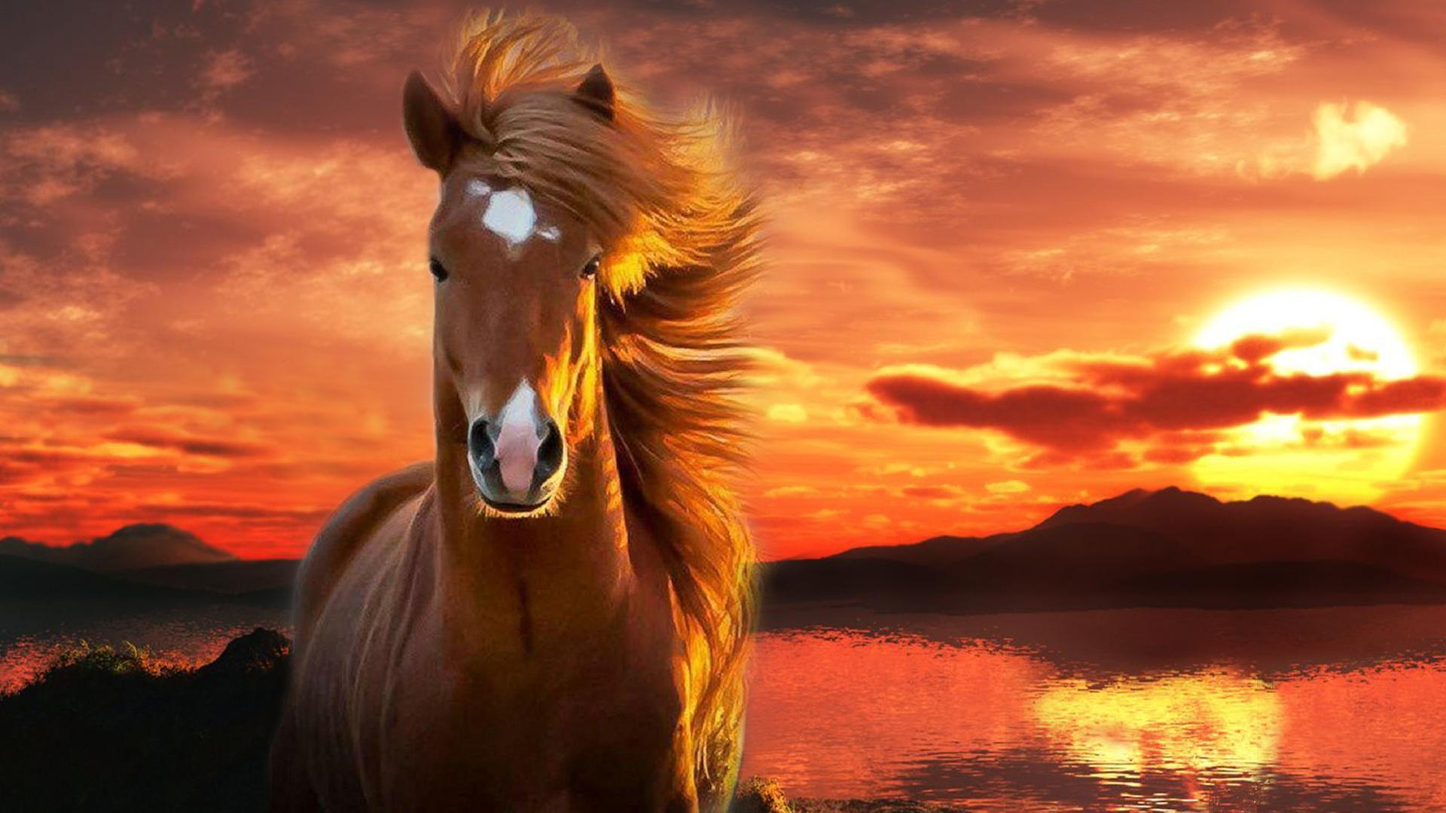horse: (263, 0, 780, 813)
